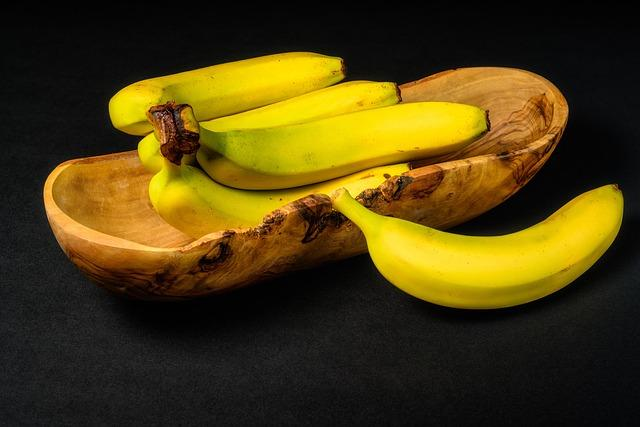banana: (108, 50, 626, 312)
